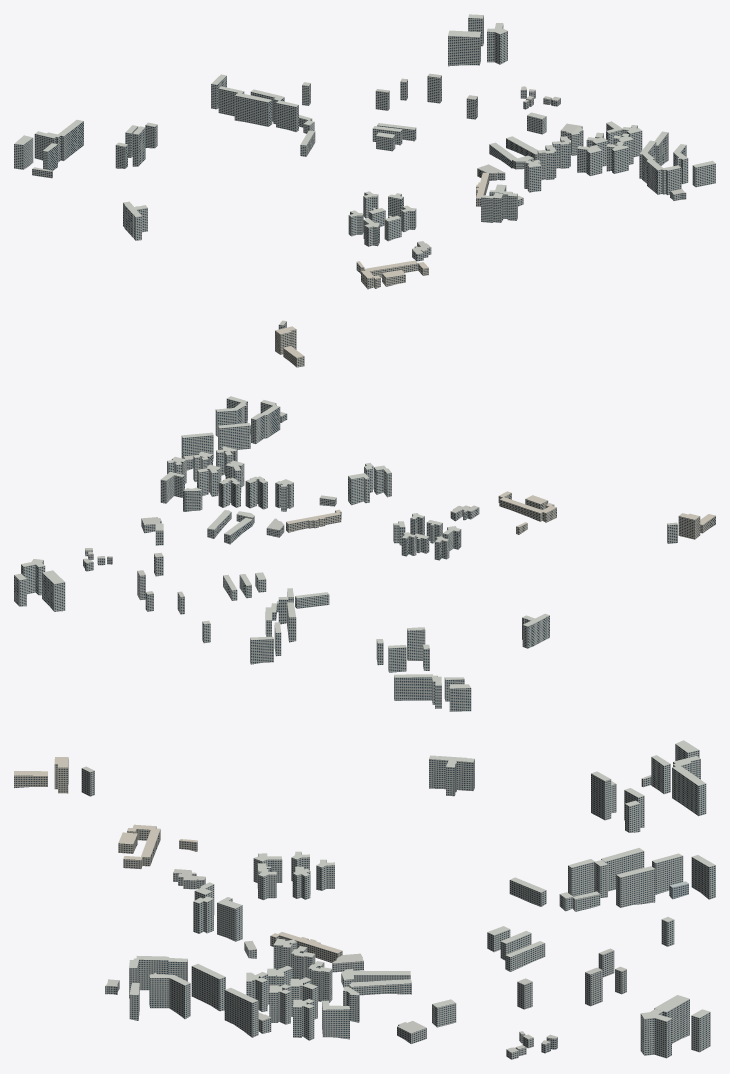
The model's file is city_-7_-5.glb.
3 views of the same model, one above another, from view 1: azimuth 30°, elevation 25°; view 2: azimuth 150°, elevation 25°; view 3: azimuth 270°, elevation 25° (orthographic). The views are drawn at different scales.
Size of the model in its own units: 985 by 120 by 1002.
4 materials, 4 textured.
